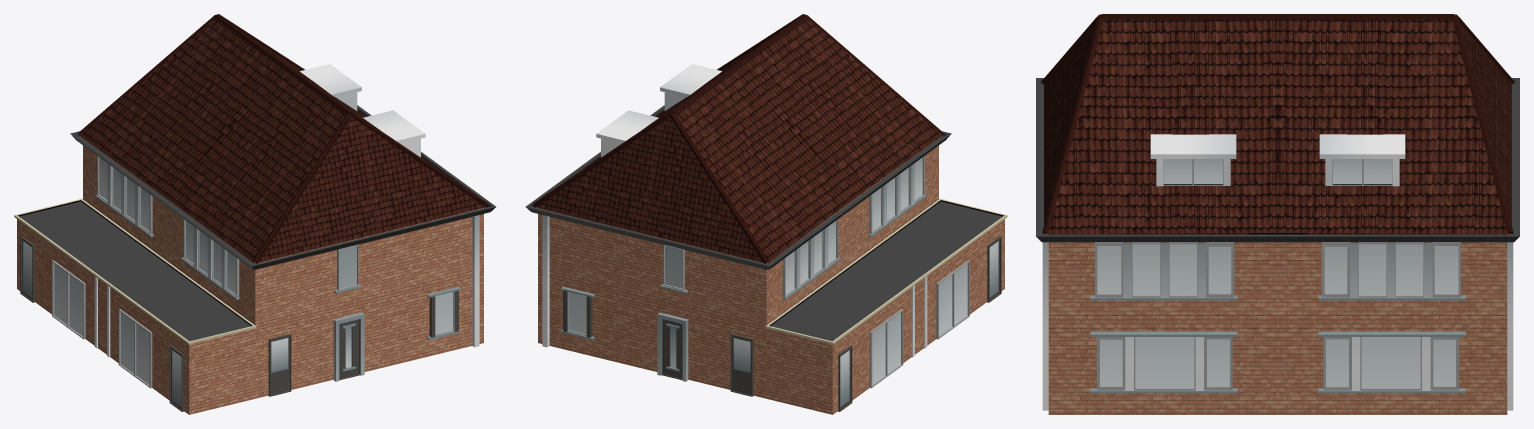
File: Stjelp 8 en 10.fbx
3 views of the same model, side by side, from view 1: azimuth 30°, elevation 25°; view 2: azimuth 150°, elevation 25°; view 3: azimuth 270°, elevation 25° (orthographic). The views are drawn at different scales.
Visible parts, largest first — view 1: polySurface48; view 2: polySurface48; view 3: polySurface48.
Boxes of the visible parts, x1,y1,x2,y2 form: polySurface48: (14,14,496,414); polySurface48: (525,14,1007,414); polySurface48: (1036,14,1519,414).
Size of the model in its own units: 13.31 by 10.25 by 13.75.
